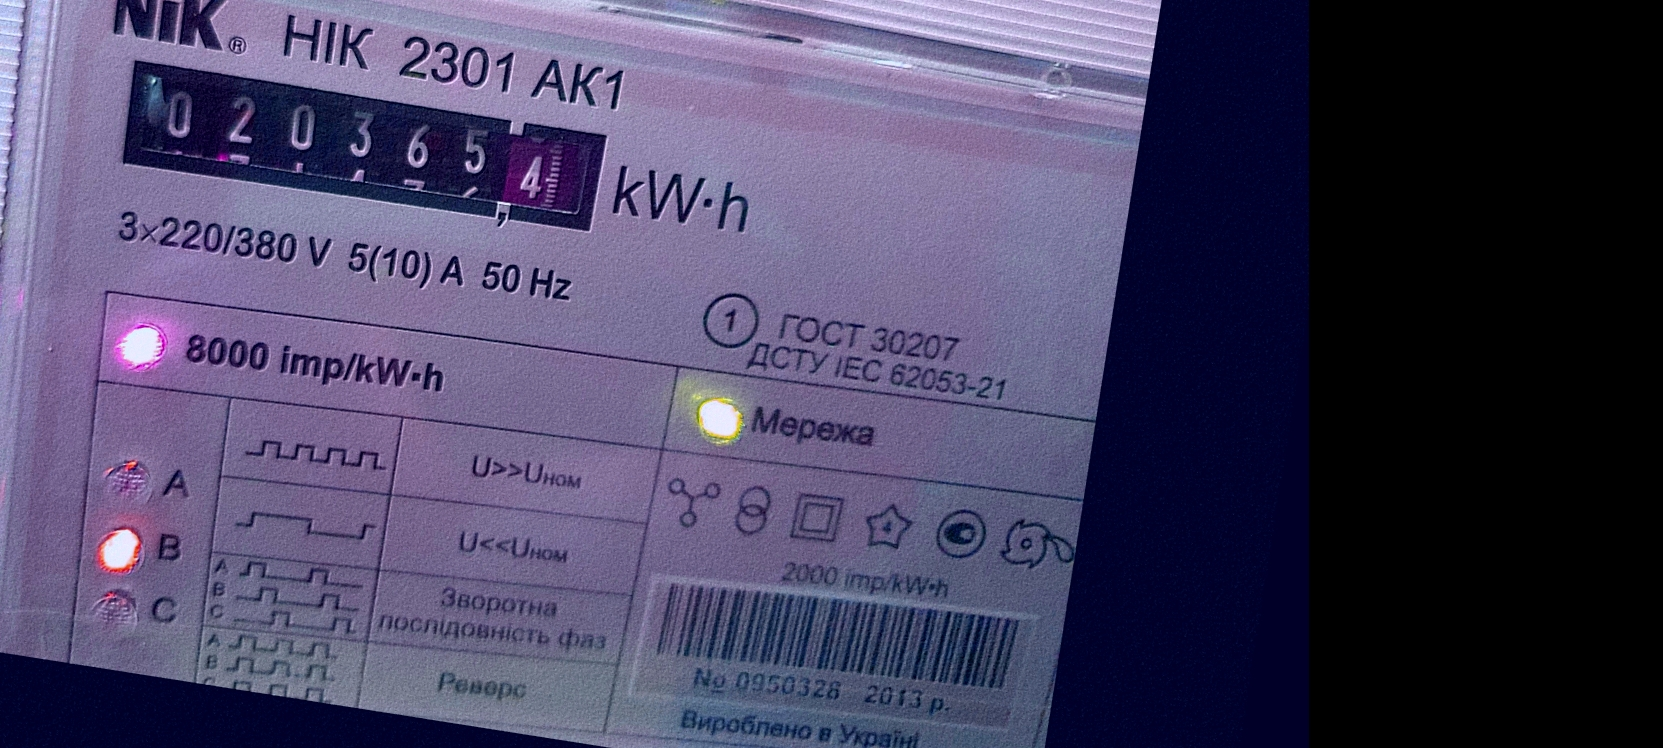0: (160, 85, 202, 145), (285, 102, 322, 155)
2: (224, 92, 262, 147)
3: (344, 109, 380, 162)
4: (517, 150, 547, 202)
5: (460, 127, 494, 177)
6: (403, 118, 436, 172)
screen: (103, 41, 626, 256)
